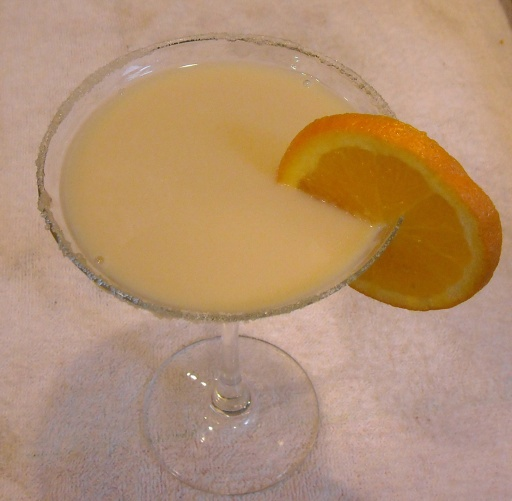background: (45, 48, 402, 245)
